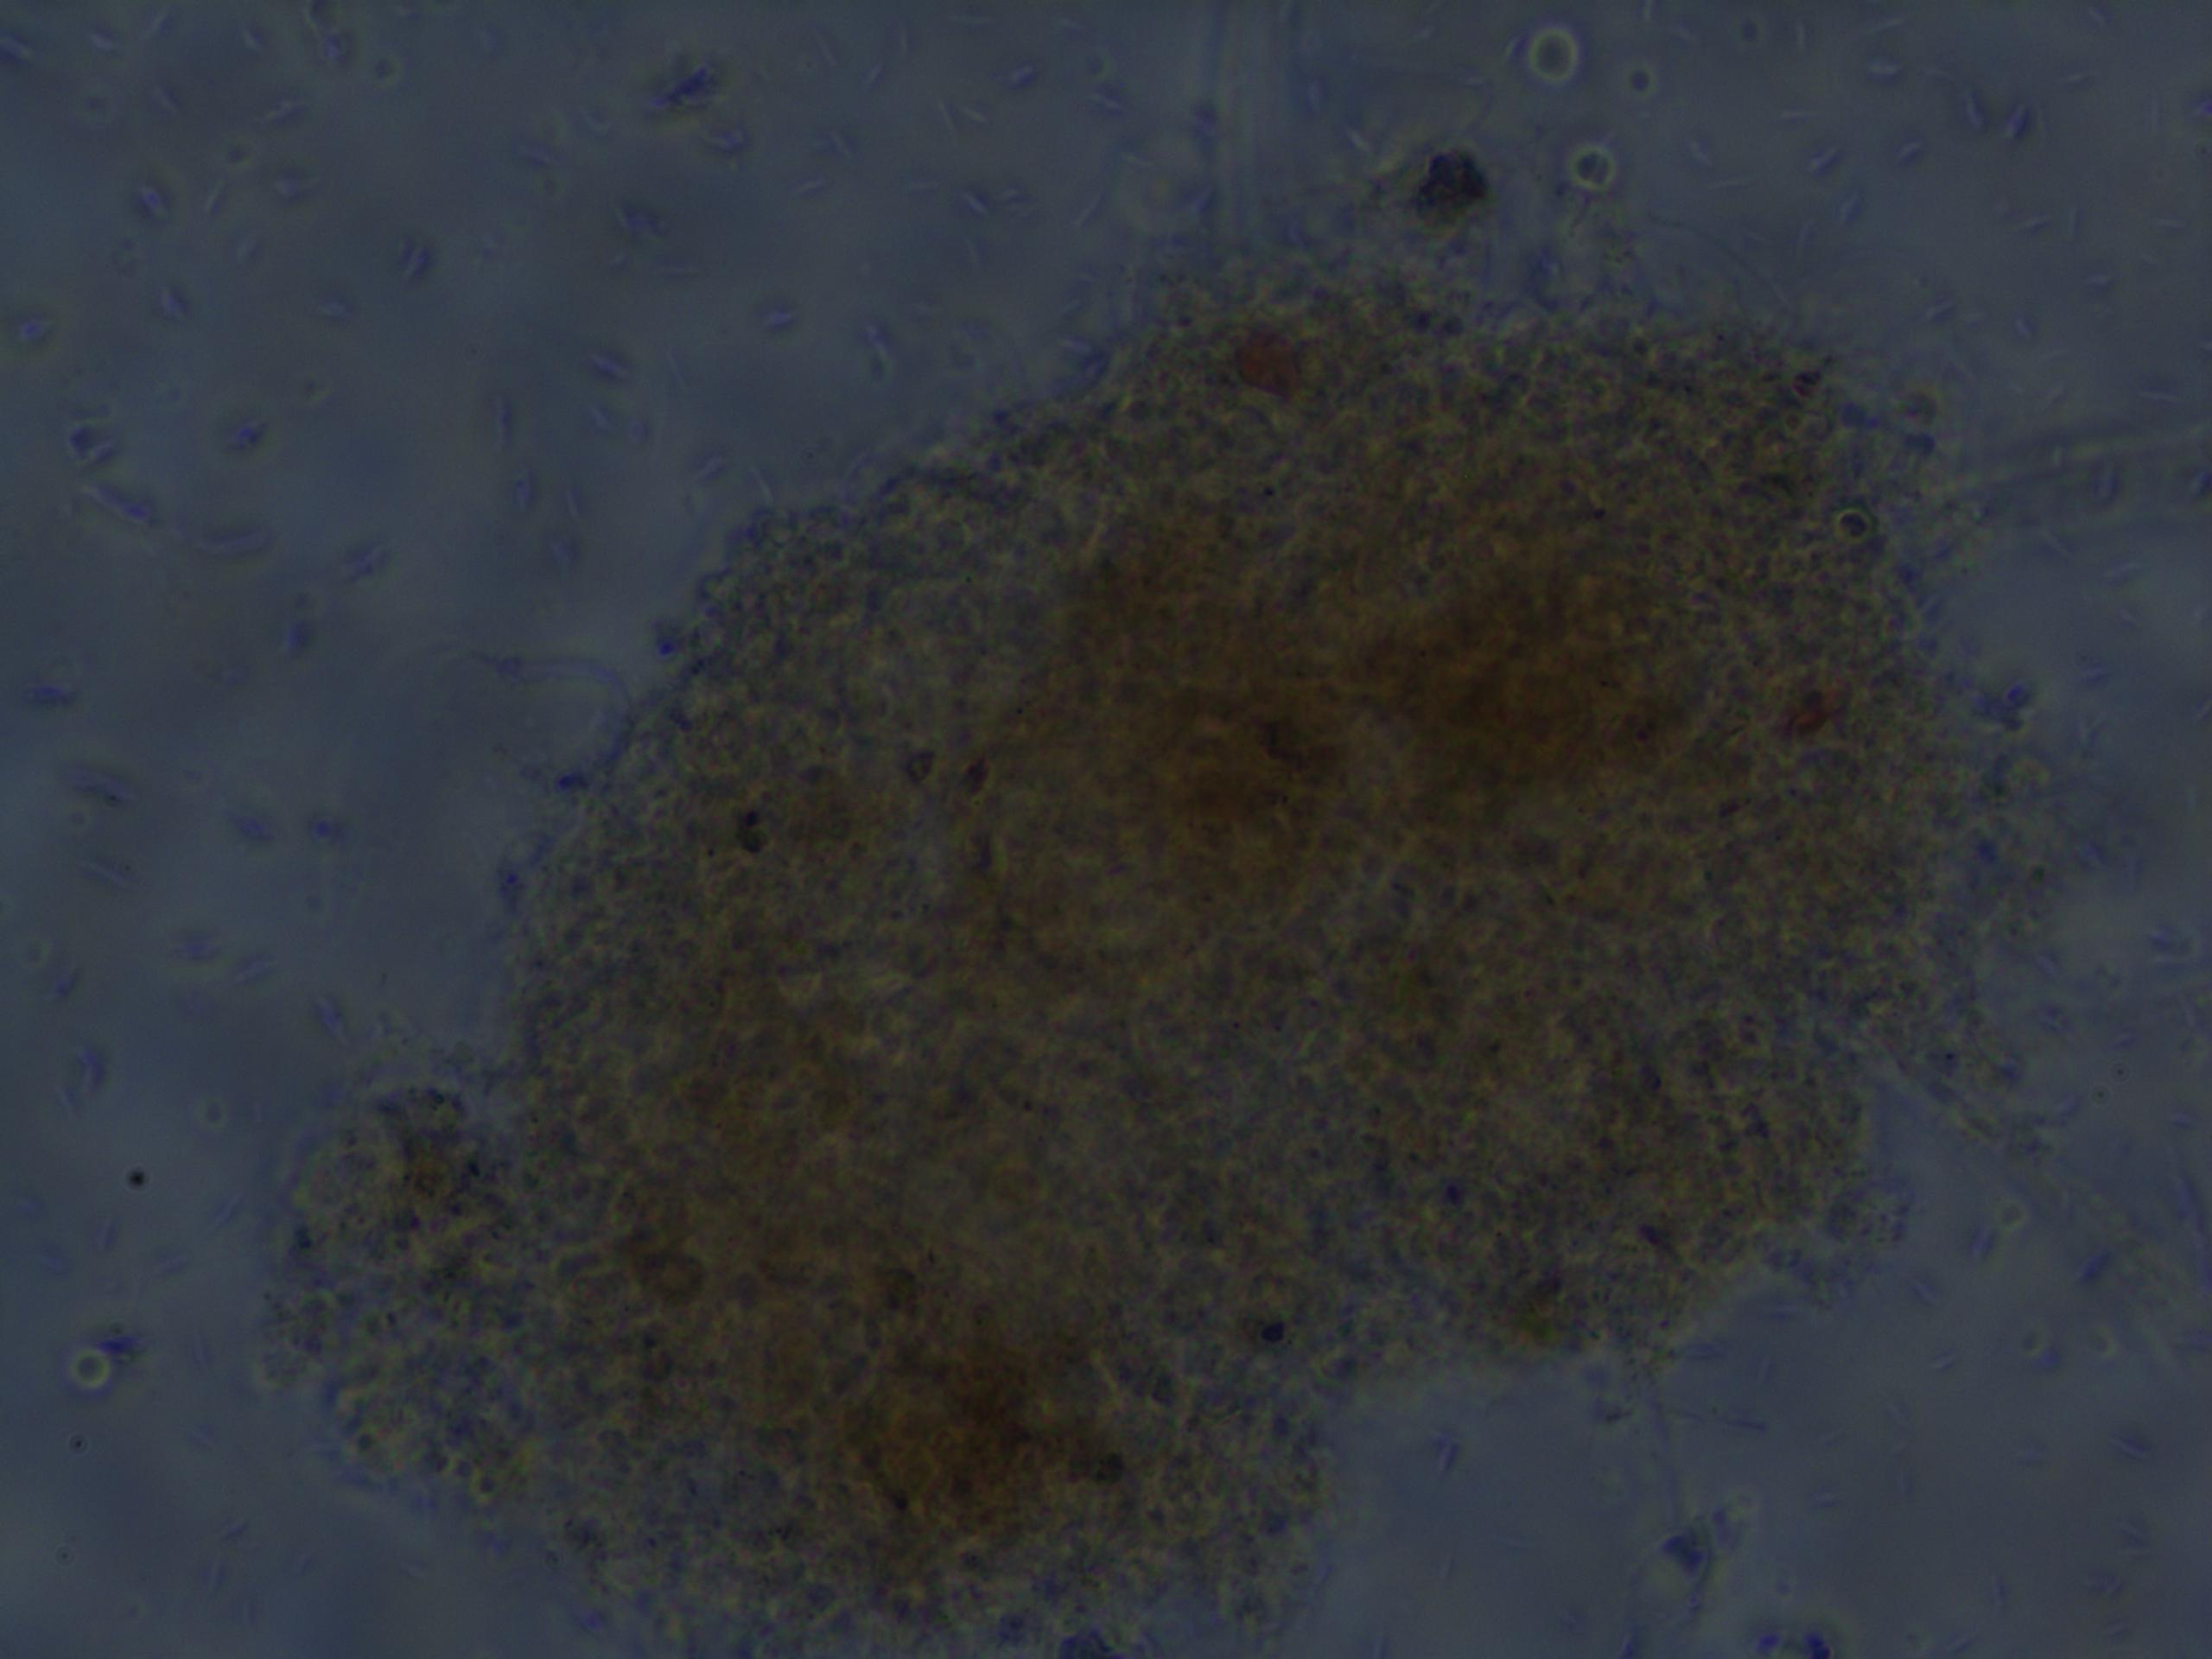filament: (1879, 1040, 2212, 1331), (1893, 390, 2212, 544)
spherical_floc: (280, 232, 2043, 1650)
